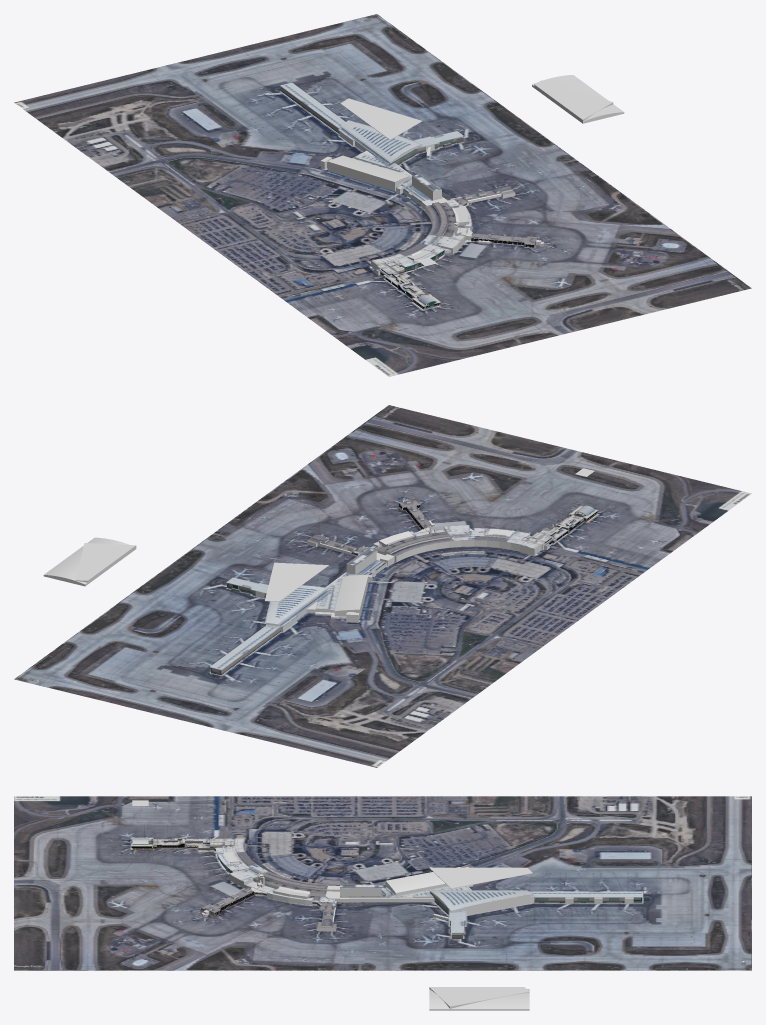
The model's file is Terminal3.glb.
3 views of the same model, one above another, from view 1: azimuth 30°, elevation 25°; view 2: azimuth 150°, elevation 25°; view 3: azimuth 270°, elevation 25° (orthographic).
Visible parts, largest first — view 1: C-Background, _(Loose Entity), C-Roof1; view 2: C-Background, _(Loose Entity), C-Roof1; view 3: C-Background, _(Loose Entity), C-Roof1.
Boxes of the visible parts, x1=… form: C-Background: x1=14, y1=14, x2=751, y2=376; _(Loose Entity): x1=279, y1=82, x2=543, y2=309; C-Roof1: x1=532, y1=75, x2=624, y2=123; C-Background: x1=14, y1=405, x2=751, y2=767; _(Loose Entity): x1=209, y1=468, x2=598, y2=675; C-Roof1: x1=43, y1=537, x2=136, y2=586; C-Background: x1=14, y1=796, x2=751, y2=970; _(Loose Entity): x1=130, y1=800, x2=643, y2=938; C-Roof1: x1=429, y1=987, x2=529, y2=1010.
Bounding box in the file's own units: 1217 × 112 × 1770.
19 materials, 15 textured.
